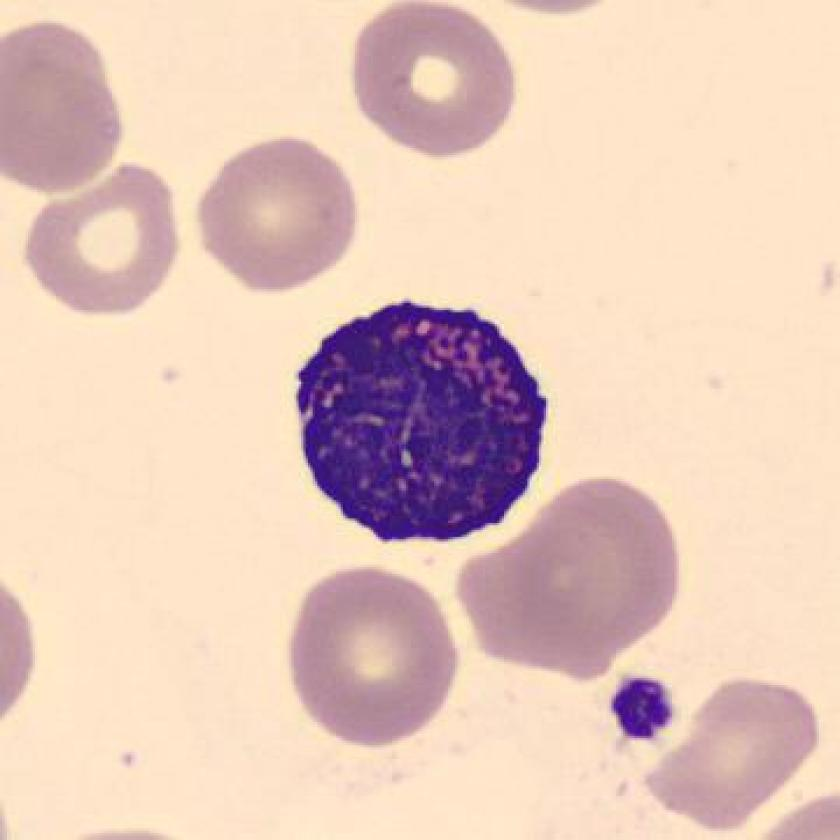basophil: (288, 290, 559, 552)
